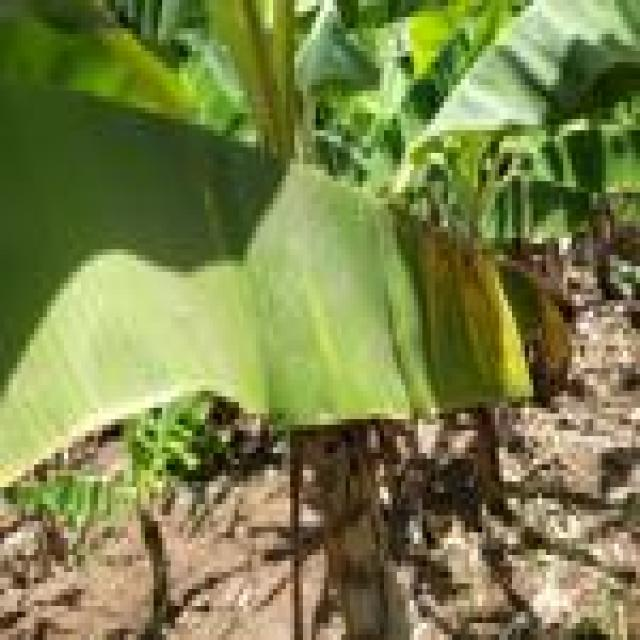Early_rust: (386, 191, 586, 418)
